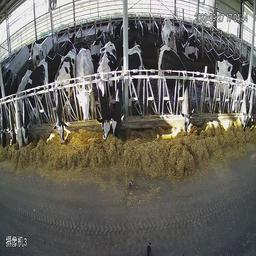cow: (157, 44, 191, 136), (113, 45, 144, 135), (215, 54, 247, 131), (23, 59, 50, 146), (53, 50, 77, 142), (96, 39, 113, 138), (79, 45, 94, 120), (15, 67, 24, 150), (182, 27, 202, 62), (160, 14, 178, 49), (1, 72, 9, 146), (10, 72, 16, 144), (27, 40, 44, 65), (92, 28, 105, 56), (63, 32, 78, 55), (111, 20, 123, 38)
